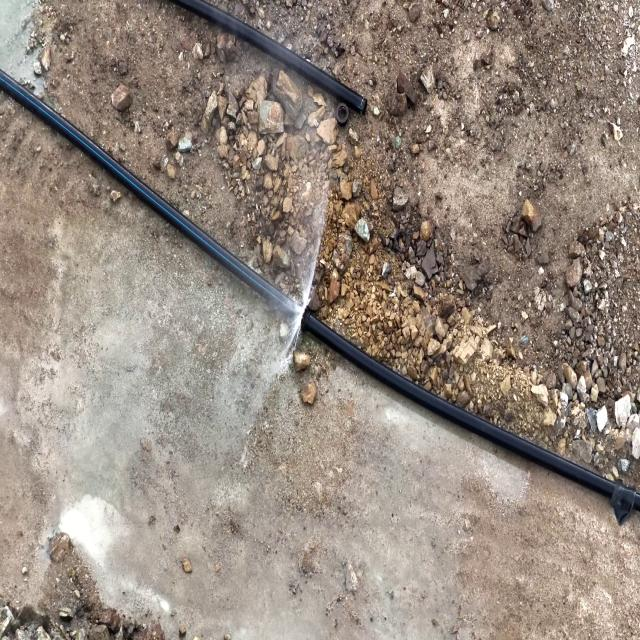leak: (260, 195, 336, 397)
